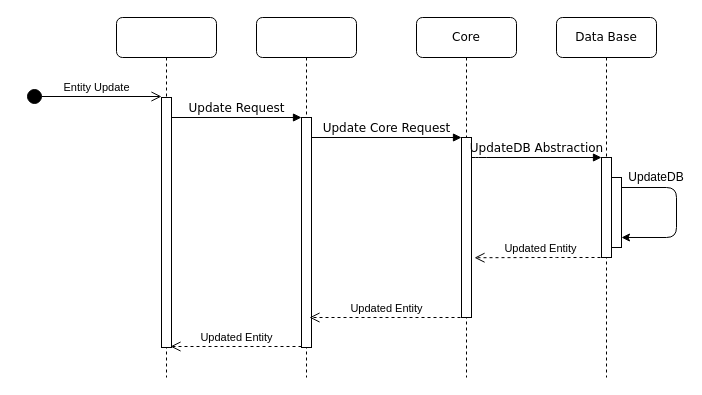
The diagram is 702 pixels wide and 395 high, and some of its shapes have lost their labels. Here are the shapes that lost their labels. From the top down, the box of each, then its label:
(116, 16, 216, 378): Redux Layer
(256, 16, 356, 378): API
